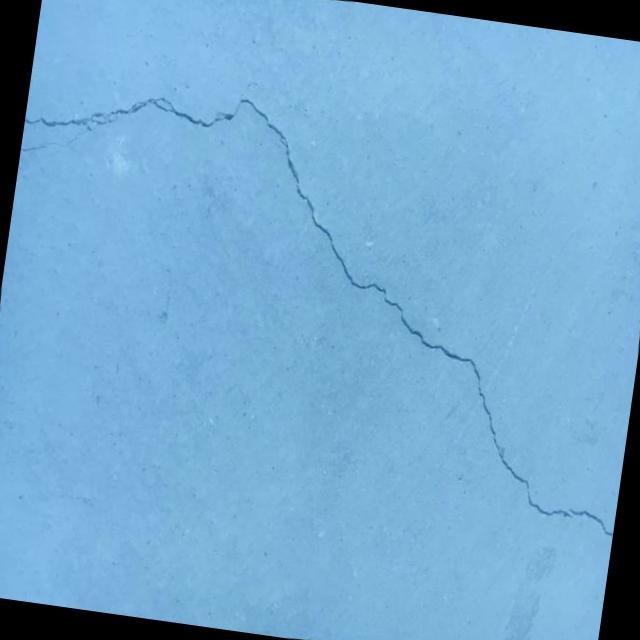crack: (0, 45, 640, 574)
